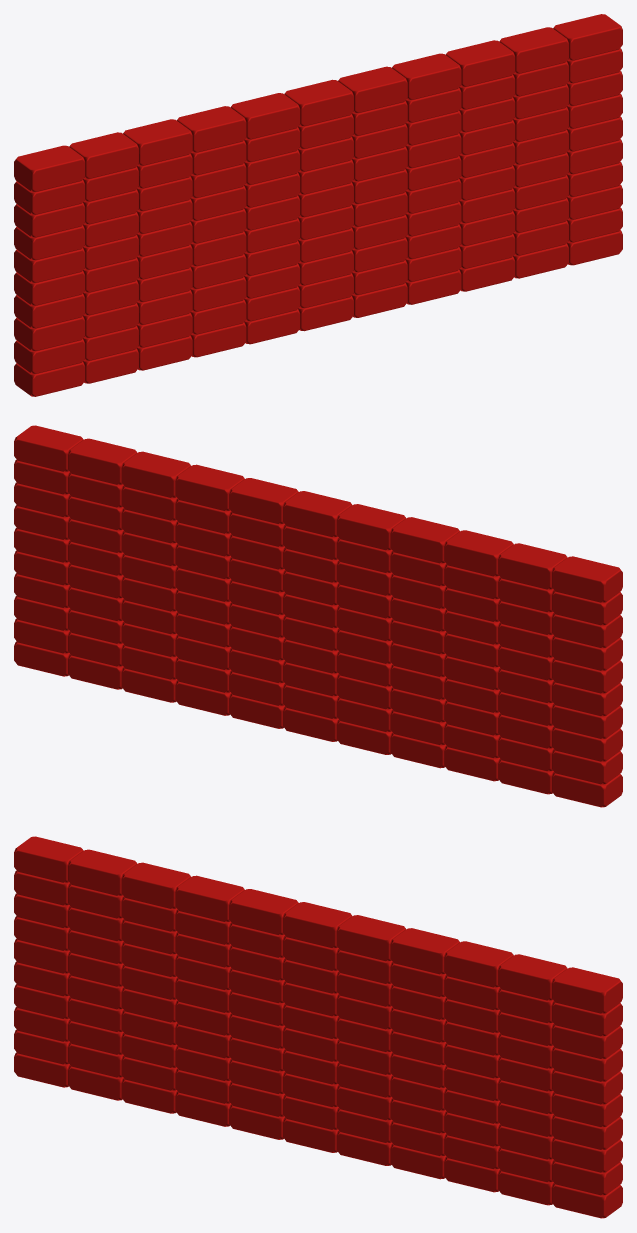
File: BrickWall.fbx
3 views of the same model, one above another, from view 1: azimuth 30°, elevation 25°; view 2: azimuth 150°, elevation 25°; view 3: azimuth 330°, elevation 25° (orthographic).
Parts seen in each view (by area): view 1: Cube; view 2: Cube; view 3: Cube.
Boxes of the visible parts, box(x1,y1,x2,y2) form: Cube: box(14, 14, 622, 396); Cube: box(14, 425, 622, 807); Cube: box(14, 836, 622, 1218).
Bounding box in the file's own units: 2200 × 808 × 125.
